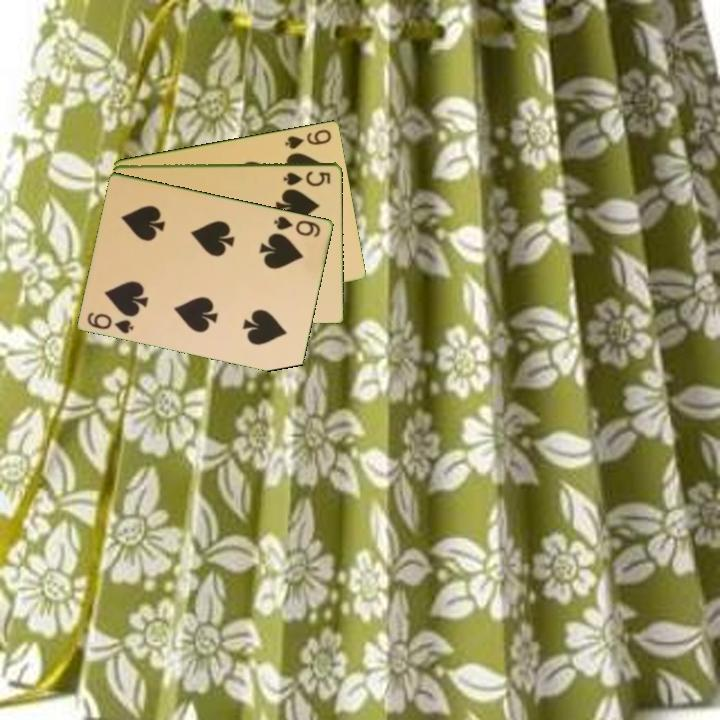5s: (280, 167, 334, 188)
6s: (270, 212, 324, 240), (84, 309, 137, 336)
9s: (281, 125, 334, 152)
